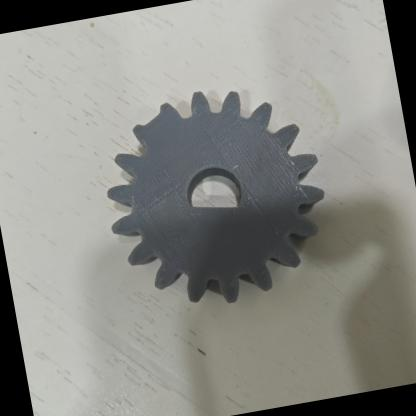defect: (176, 176, 255, 240), (120, 97, 188, 155)
gear: (91, 72, 340, 320)
